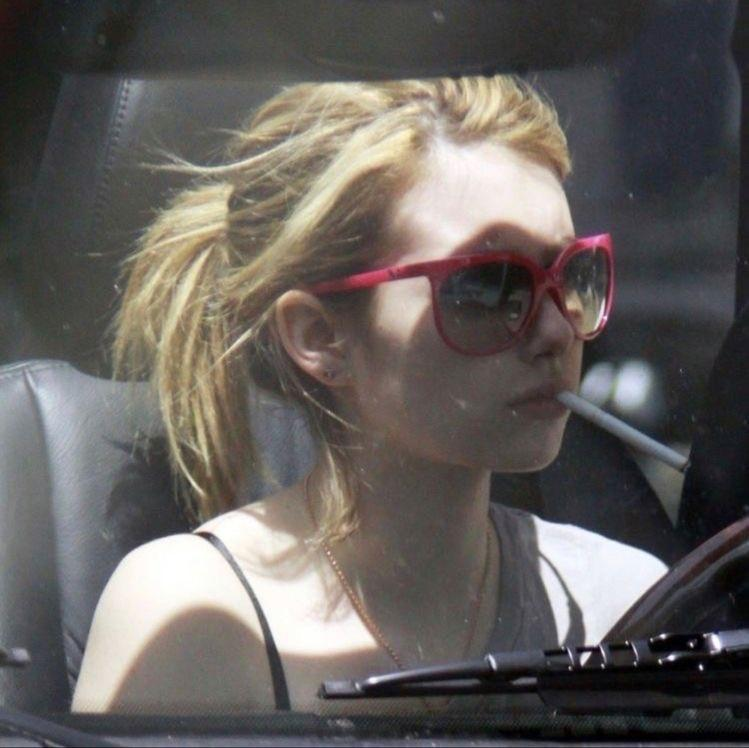cigarette: (556, 391, 689, 471)
